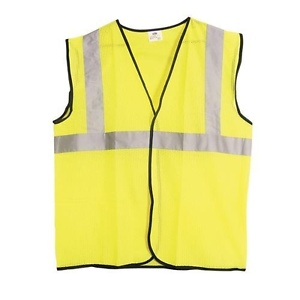safety vest: (49, 18, 256, 274)
